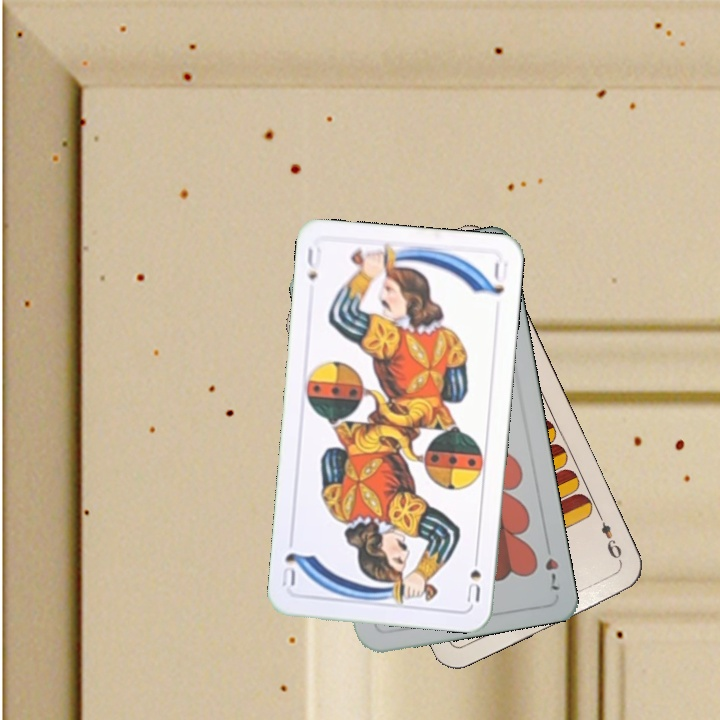E9: (594, 510, 625, 566)
H7: (541, 537, 562, 593)
SU: (463, 548, 484, 604), (303, 243, 324, 283)
